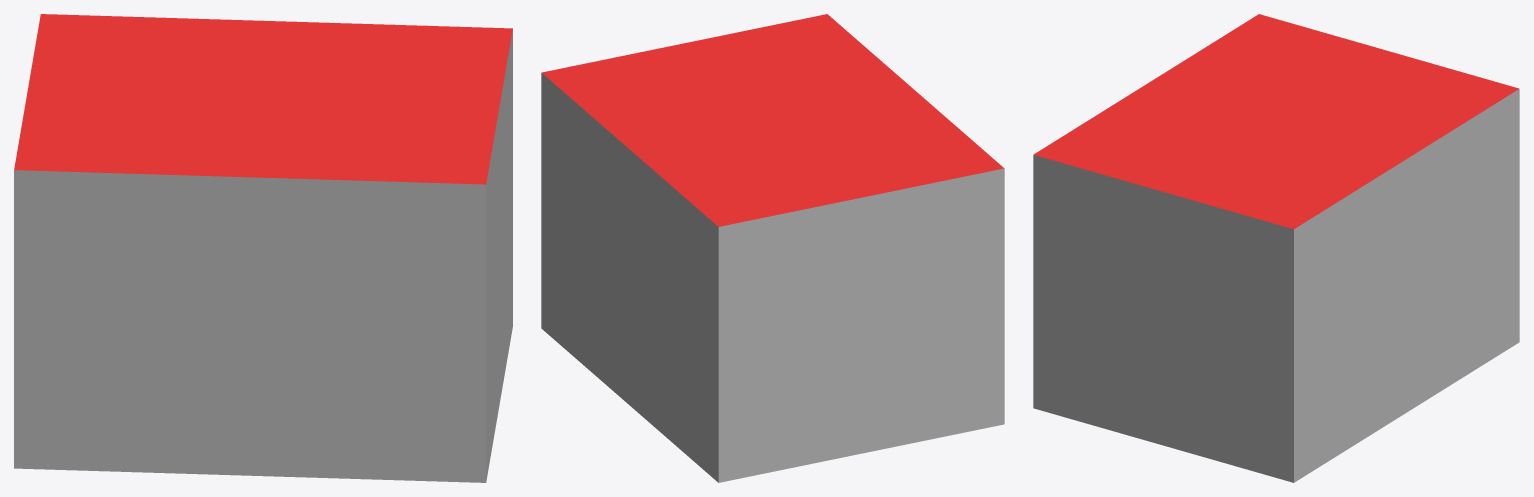
The model's file is ID_6304a783-9ba0-4dbd-b1d8-baa2e8aeb93d.dae.
3 renders of one model, left to right at view 1: azimuth 30°, elevation 25°; view 2: azimuth 150°, elevation 25°; view 3: azimuth 270°, elevation 25°, orthographic. The views are drawn at different scales.
Size of the model in its own units: 29.14 by 27.8 by 16.
